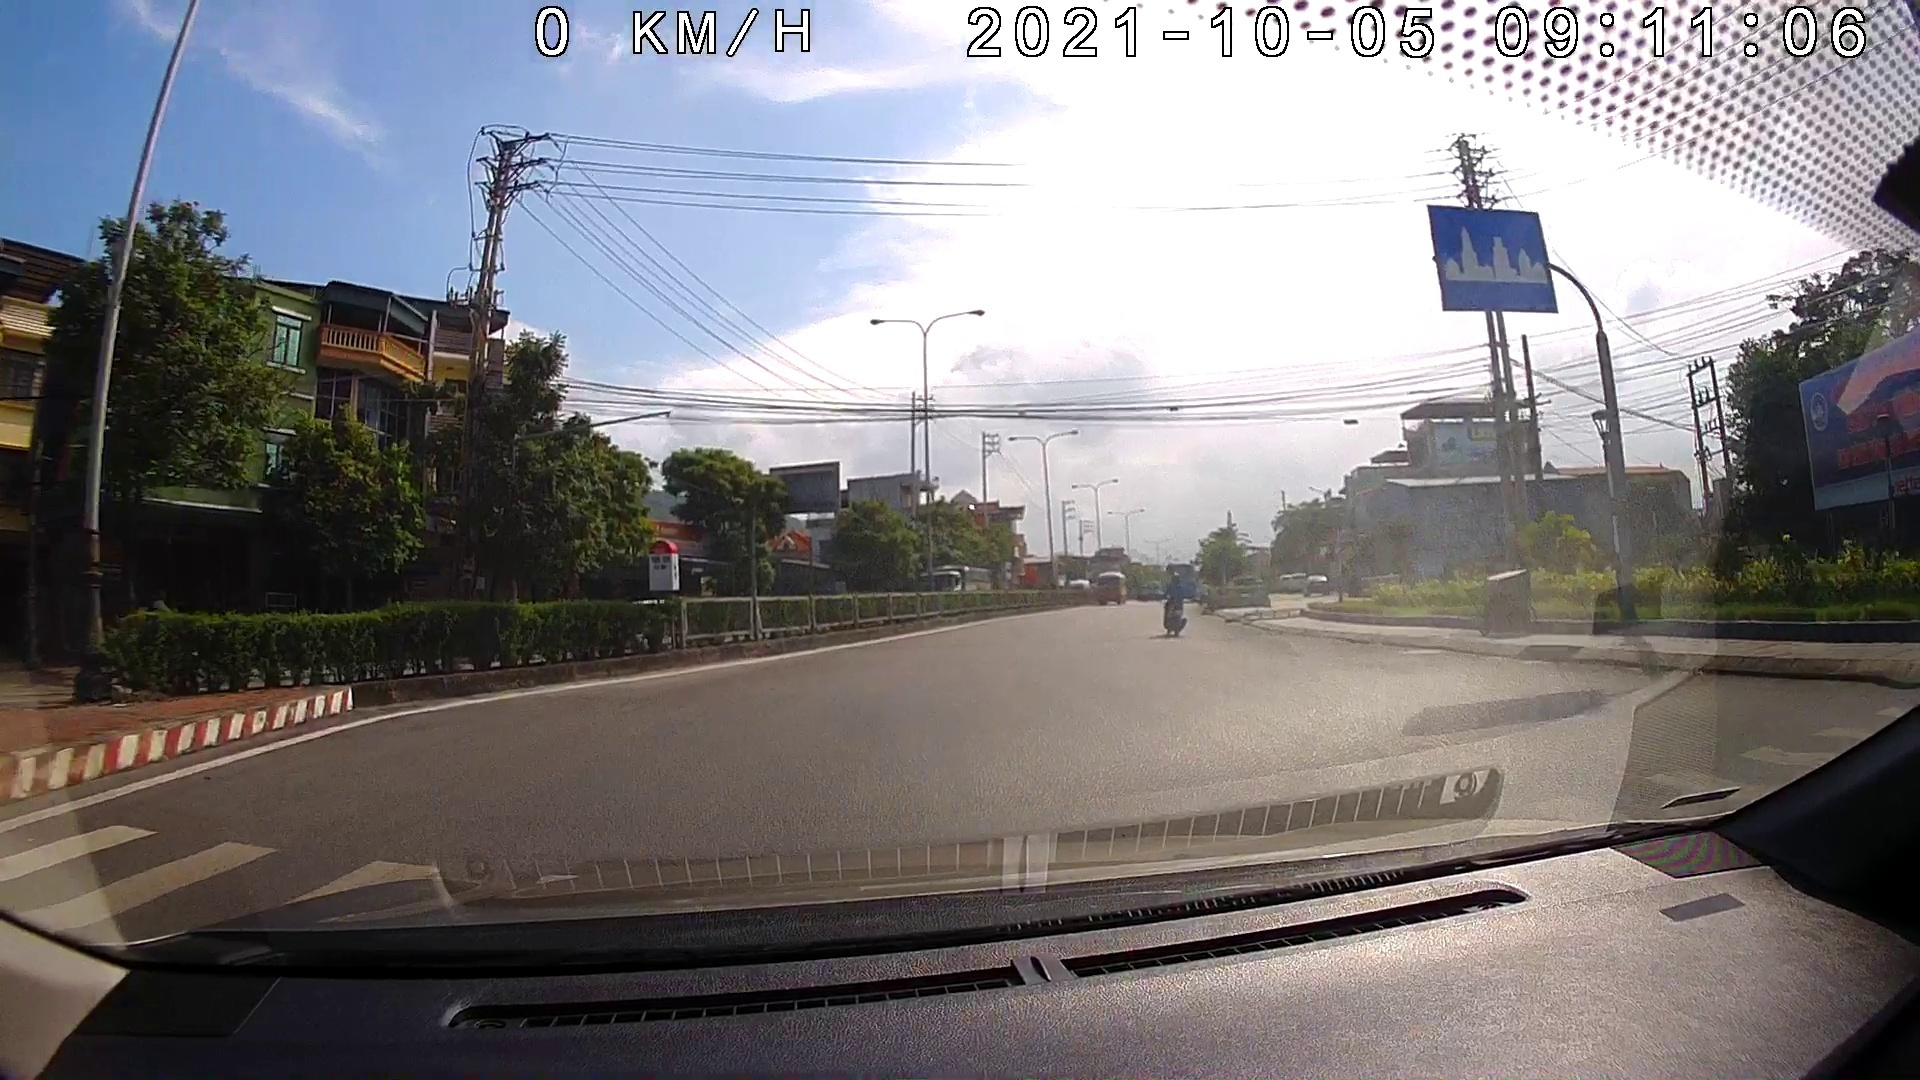Bien khac: (1425, 200, 1557, 313)
